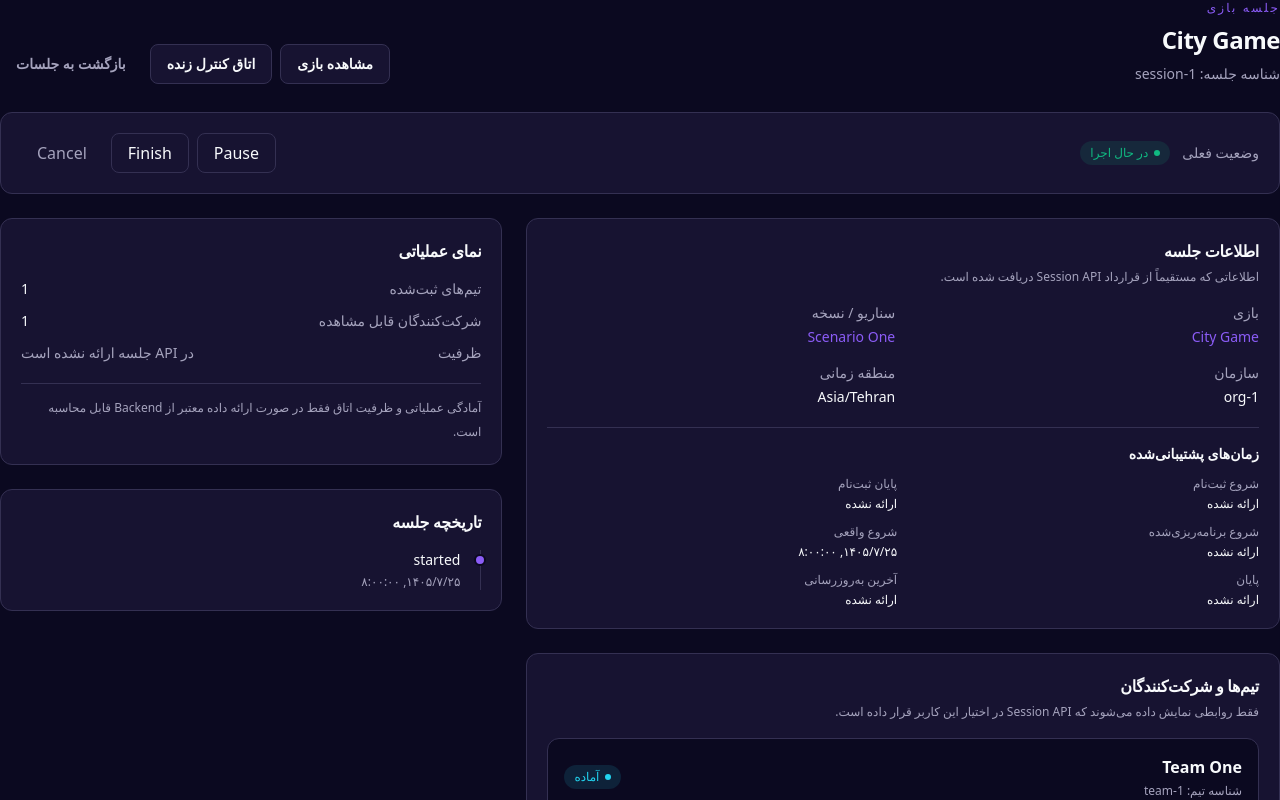
it: session detail › confirms an authorized lifecycle action and refreshes session data
Click the button "Pause" at (236, 153), box top-left (197, 133), bottom-right (276, 173)
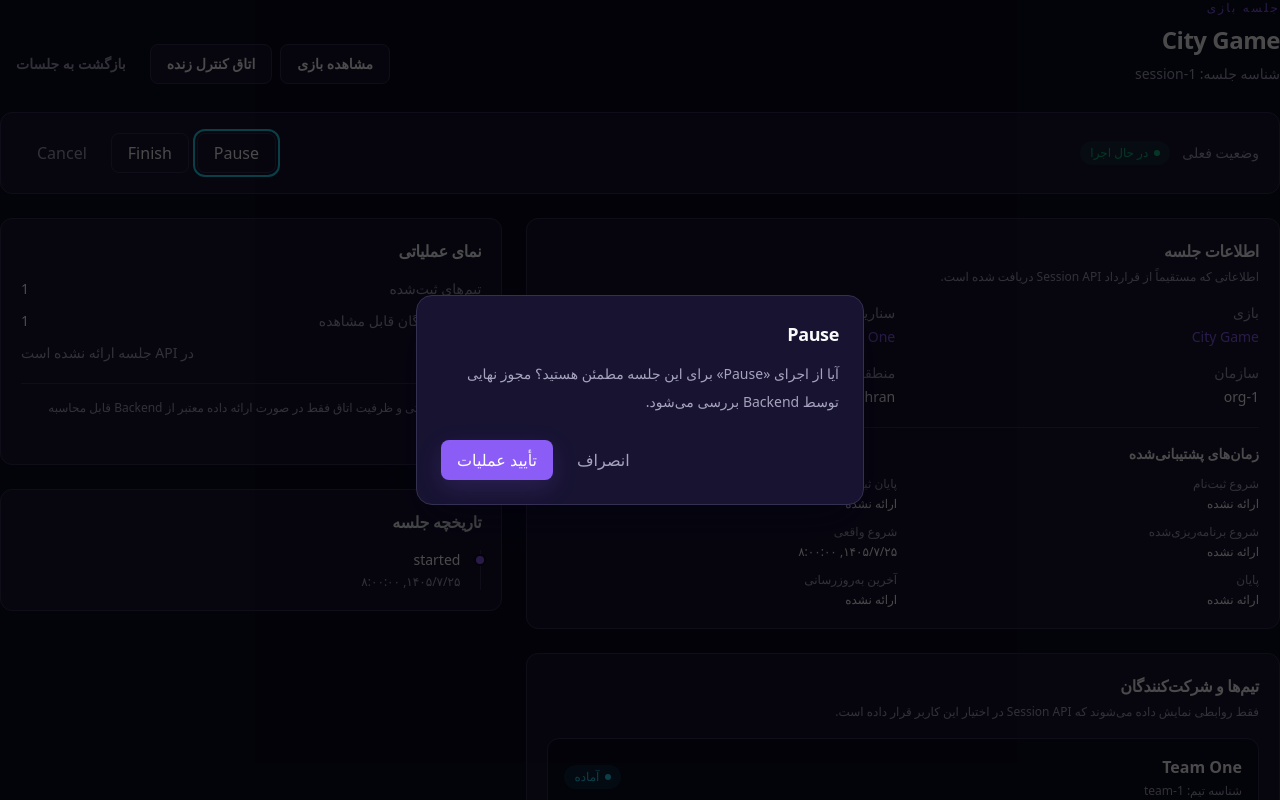
Check: the dialog is shown
Click the button "تأیید عملیات" at (497, 460), box top-left (441, 440), bottom-right (553, 480)
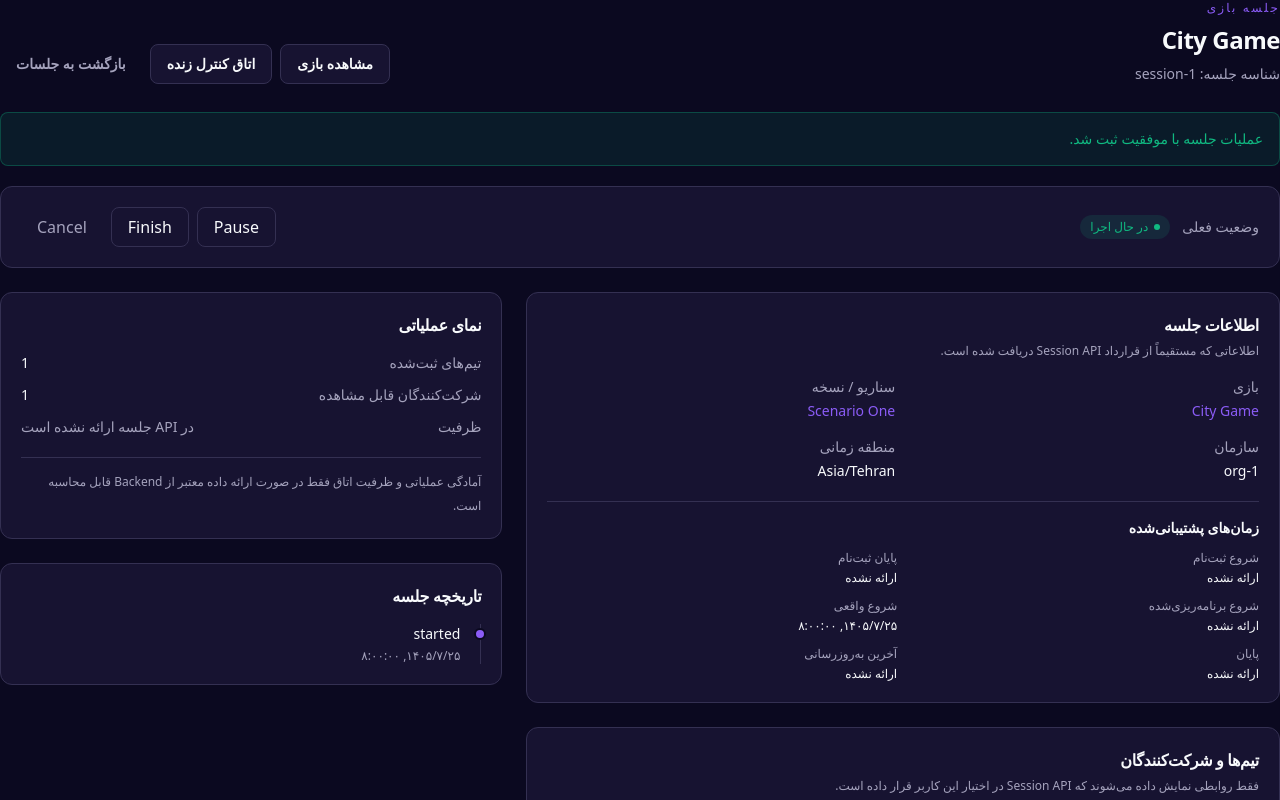
Check: the message reads "عملیات جلسه با موفقیت ثبت شد.", box top-left (1069, 129), bottom-right (1263, 148)
